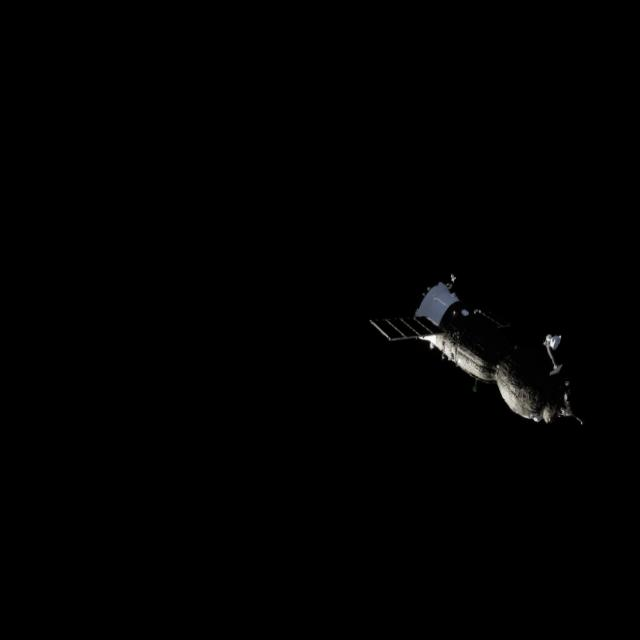Satellites revolving around earth: (363, 266, 589, 430)
